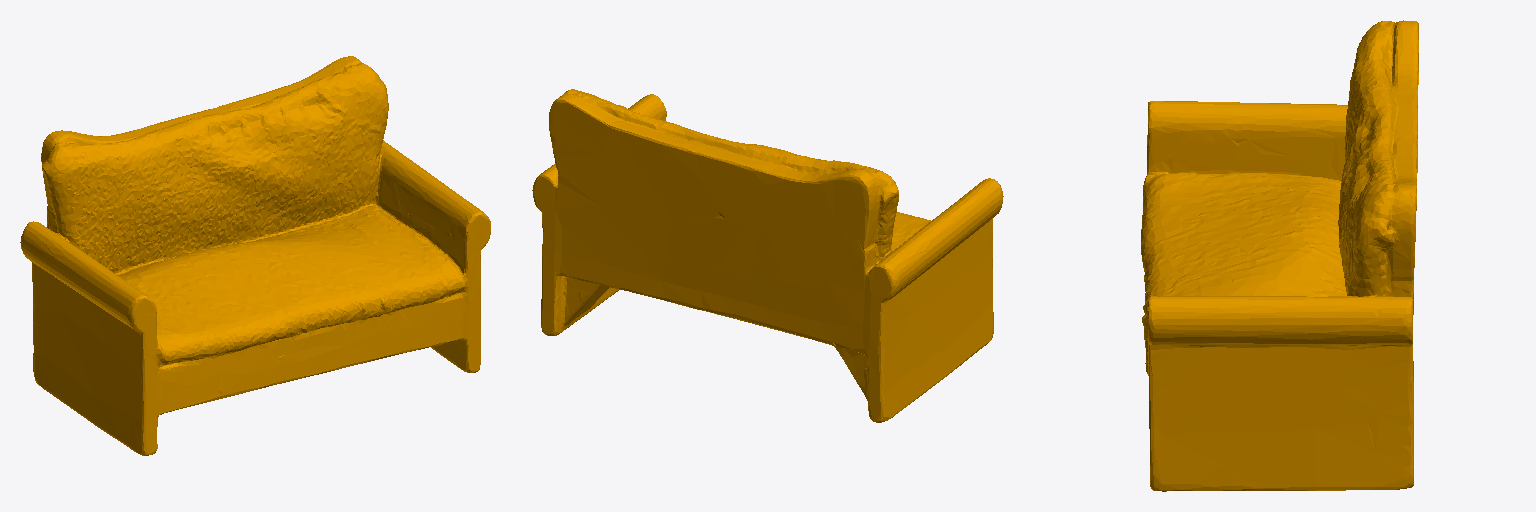
robot.urdf — 3jr1ae72:
<?xml version='1.0'?>

<robot name="3jr1ae72">
    <static>false</static>
    <link name="link">
        <inertial>
            <mass value="0.061212975438427734"/>
            <inertia ixx="4.078588332778073e-05" ixy="1.1645483746230893e-07" ixz="-1.0550127495558154e-06"
                     iyy="0.00010052998184950284" iyz="-9.321331350277128e-06" izz="0.00010960792112858019"/>
        </inertial>
        <collision name="collision">
            <geometry>
                <mesh filename="package://miscnet/train/3jr1ae72/collision_model_vhacd.obj"/>
            </geometry>
        </collision>
        <visual name="visual">
            <geometry>
                <mesh filename="package://miscnet/train/3jr1ae72/visual_model.obj"/>
            </geometry>
        </visual>
    </link>
</robot>

--- Facts derived from the render (not from the file) ---
The picture shows the robot from 3 angles, left to right: view 1: azimuth 30°, elevation 25°; view 2: azimuth 150°, elevation 25°; view 3: azimuth 270°, elevation 25°; orthographic projection.
Model 3jr1ae72 with 1 links and 0 joints (none), rooted at link, posed every joint at zero.
Visible links, largest first — view 1: link; view 2: link; view 3: link.
Boxes of the visible links, bbox=[...] form: link: bbox=[20, 56, 490, 455]; link: bbox=[532, 89, 1003, 422]; link: bbox=[1141, 20, 1418, 491].
Bounding box of the posed robot: 0.1258 × 0.0695 × 0.0818 m (x, y, z).
Meshes: 1 distinct files referenced, 1 mesh visuals loaded (1 OBJ).
